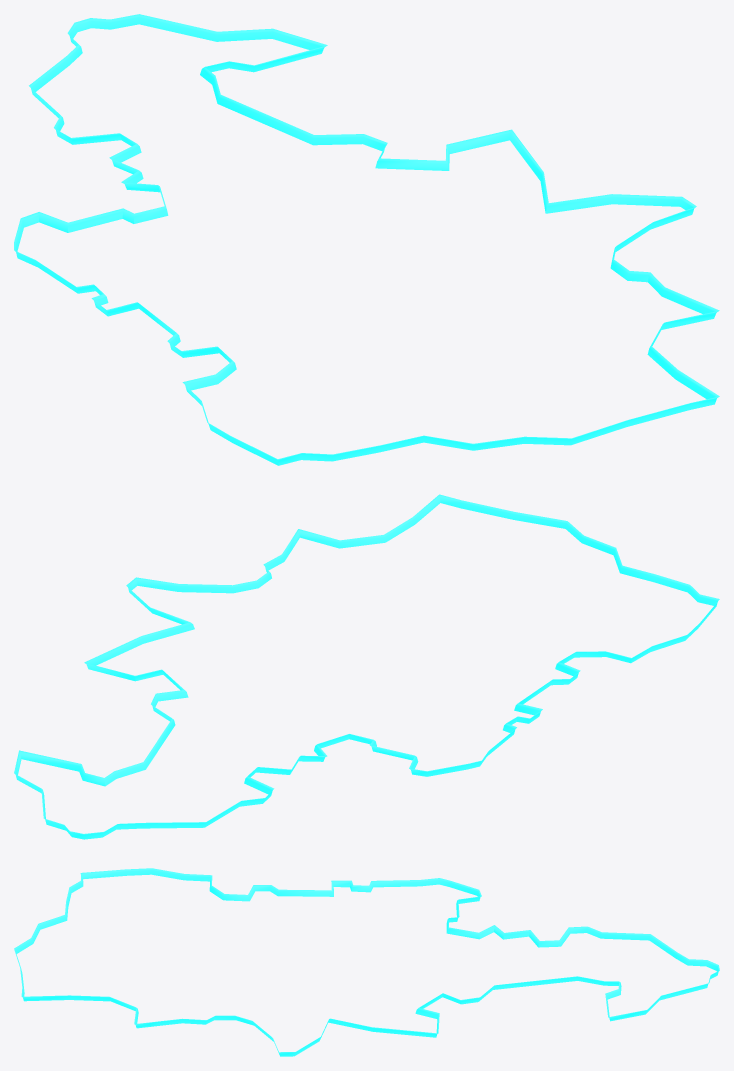
3 views of the same model, one above another, from view 1: azimuth 30°, elevation 25°; view 2: azimuth 150°, elevation 25°; view 3: azimuth 270°, elevation 25° (orthographic). The views are drawn at different scales.
Visible parts, largest first — view 1: 图形006; view 2: 图形006; view 3: 图形006.
Boxes of the visible parts, x1,y1,x2,y2 form: 图形006: (14,14,719,465); 图形006: (14,494,719,839); 图形006: (14,868,719,1056).
Size of the model in its own units: 8.85 by 0.124 by 14.35.
